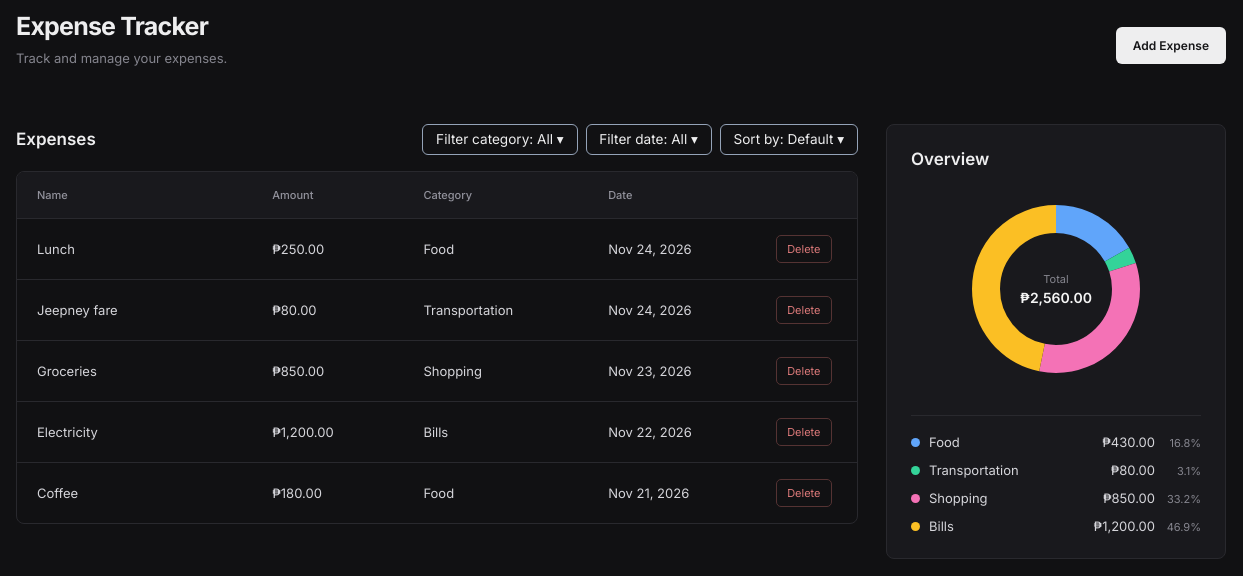
ExpenseTracker App › deletes an existing expense from the table
Expected: the text "Lunch" is shown, [17,218,252,279]
Click the button "Delete" in the row of "Lunch" at (804, 249), box [776,235,832,263]
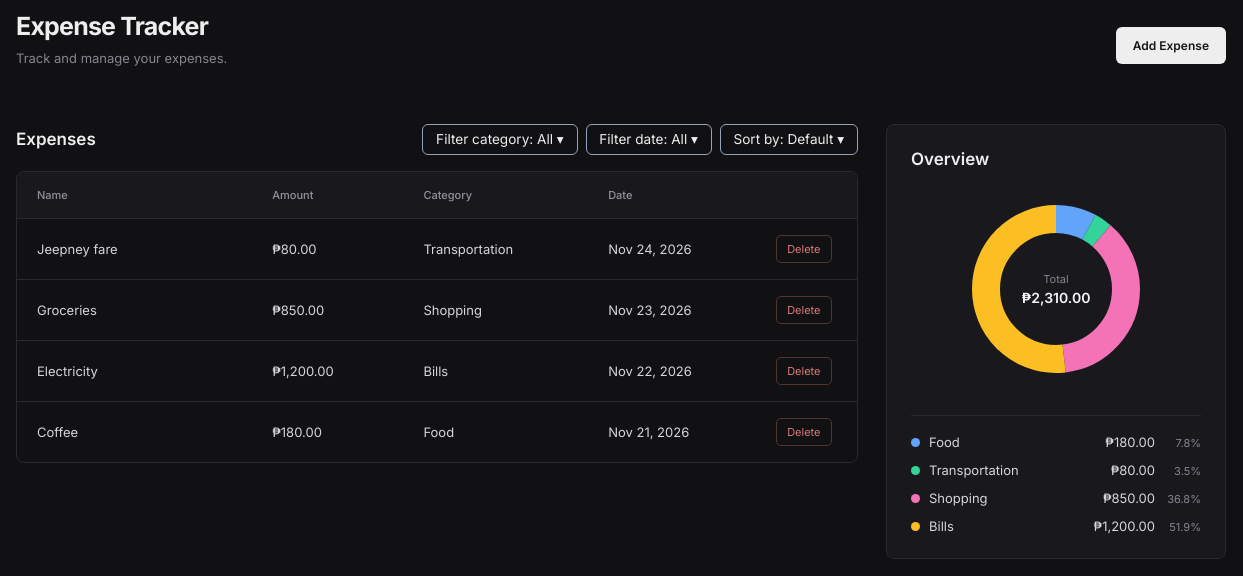
Now the text "Lunch" is gone
